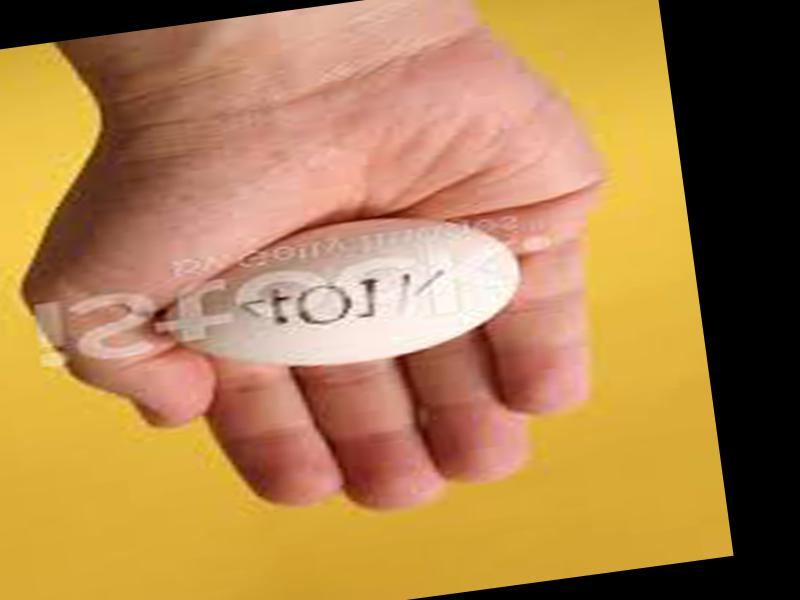Eggs: (154, 202, 528, 386)
